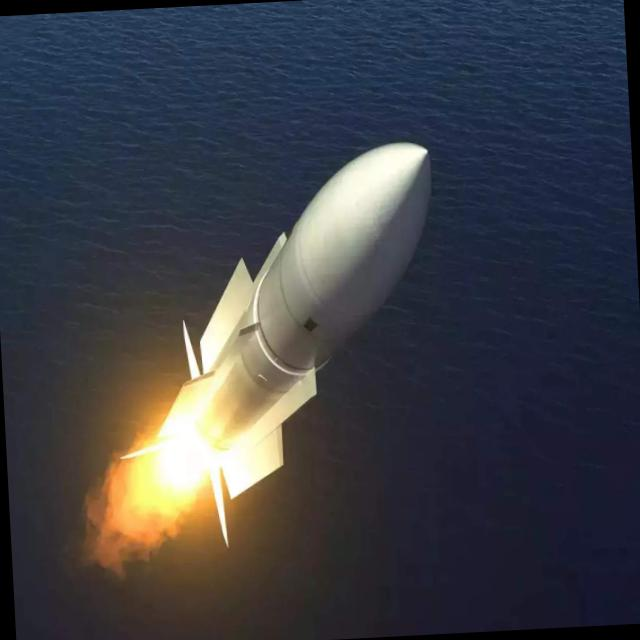rocket: (66, 116, 457, 605)
